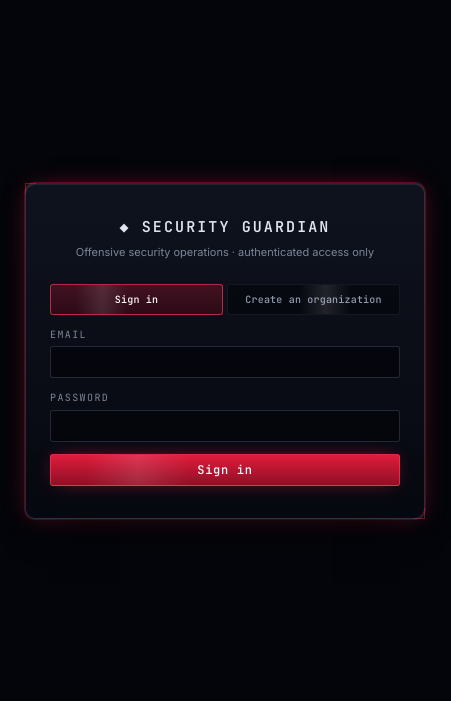
Test: sign-up › states that creating an organization grants Guardian nothing
What coordinates should you click on to do the following:
click the button "Create an organization"
I would click on:
 (314, 299)
Its box is [227,284,400,315].
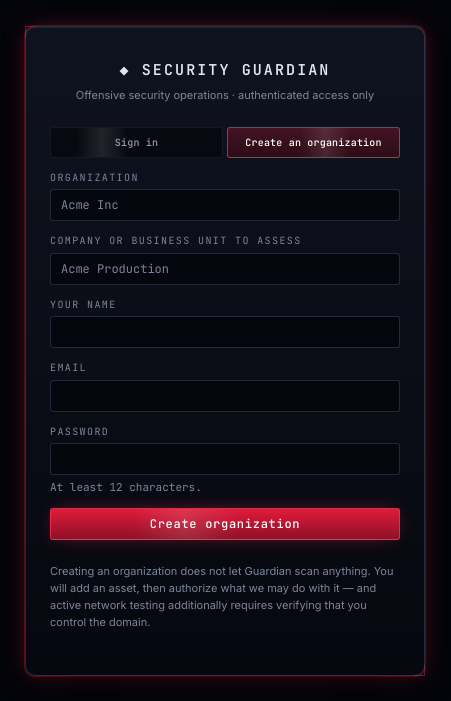
Check: the text "does not let Guardian scan anything" is shown, box [50,564,394,629]
